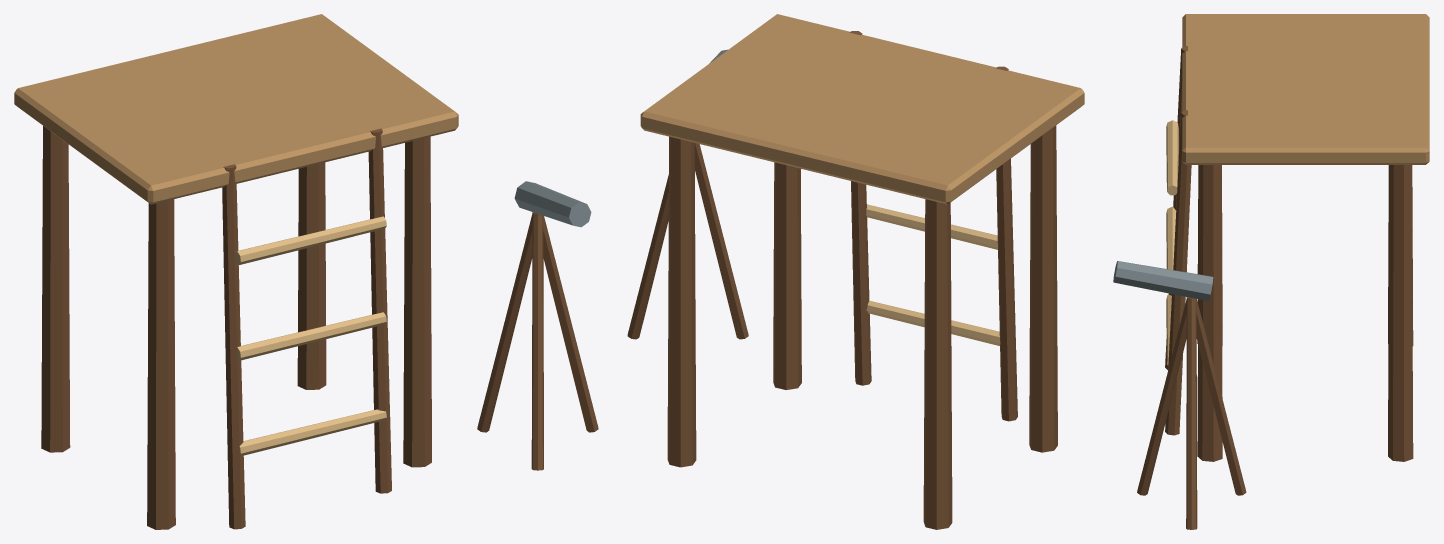
File: CC_ScoutPost.fbx
3 renders of one model, left to right at view 1: azimuth 30°, elevation 25°; view 2: azimuth 150°, elevation 25°; view 3: azimuth 270°, elevation 25°, orthographic. The views are drawn at different scales.
Visible parts, largest first — view 1: Lookout deck, Post leg, Post leg.002, Post leg.001, Post leg.003, Ladder rail, Ladder rail.001, Tripod leg.002, Tripod leg.001, Tripod leg, Ladder rung.006, Ladder rung.005 (+2 smaller); view 2: Lookout deck, Post leg.001, Post leg.003, Post leg, Post leg.002, Ladder rail, Ladder rail.001, Tripod leg.002, Tripod leg, Ladder rung.004, Ladder rung.005; view 3: Lookout deck, Post leg.003, Post leg.002, Ladder rail.001, Tripod leg, Spyglass, Tripod leg.001, Tripod leg.002, Ladder rung.006, Ladder rung.005, Ladder rail, Post leg.001.
Part boxes in pixels (bbox=[...]): Lookout deck: bbox=[14, 14, 458, 204]; Post leg: bbox=[147, 199, 175, 529]; Post leg.002: bbox=[403, 137, 431, 467]; Post leg.001: bbox=[41, 126, 70, 452]; Post leg.003: bbox=[297, 162, 326, 389]; Ladder rail: bbox=[222, 164, 245, 529]; Ladder rail.001: bbox=[368, 128, 391, 493]; Tripod leg.002: bbox=[531, 212, 543, 470]; Tripod leg.001: bbox=[477, 212, 536, 432]; Tripod leg: bbox=[539, 215, 598, 432]; Ladder rung.006: bbox=[234, 216, 386, 264]; Ladder rung.005: bbox=[237, 312, 386, 360]; Lookout deck: bbox=[640, 14, 1084, 204]; Post leg.001: bbox=[923, 199, 952, 529]; Post leg.003: bbox=[667, 136, 696, 467]; Post leg: bbox=[1029, 125, 1057, 452]; Post leg.002: bbox=[773, 162, 801, 389]; Ladder rail: bbox=[995, 66, 1017, 421]; Ladder rail.001: bbox=[849, 31, 871, 385]; Tripod leg.002: bbox=[694, 143, 748, 339]; Tripod leg: bbox=[627, 174, 668, 339]; Ladder rung.004: bbox=[866, 300, 1000, 345]; Ladder rung.005: bbox=[866, 204, 997, 249]; Lookout deck: bbox=[1182, 14, 1429, 164]; Post leg.003: bbox=[1388, 165, 1413, 461]; Post leg.002: bbox=[1197, 165, 1222, 461]; Ladder rail.001: bbox=[1165, 110, 1191, 435]; Tripod leg: bbox=[1186, 297, 1197, 529]; Spyglass: bbox=[1113, 261, 1213, 301]; Tripod leg.001: bbox=[1193, 299, 1246, 495]; Tripod leg.002: bbox=[1137, 297, 1190, 495]; Ladder rung.006: bbox=[1166, 120, 1178, 195]; Ladder rung.005: bbox=[1166, 206, 1176, 269]; Ladder rail: bbox=[1165, 46, 1187, 369]; Post leg.001: bbox=[1388, 165, 1413, 345].
Bounding box in the file's own units: 2.48 × 1.86 × 1.66.
